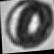correct: (1, 0, 52, 51)
